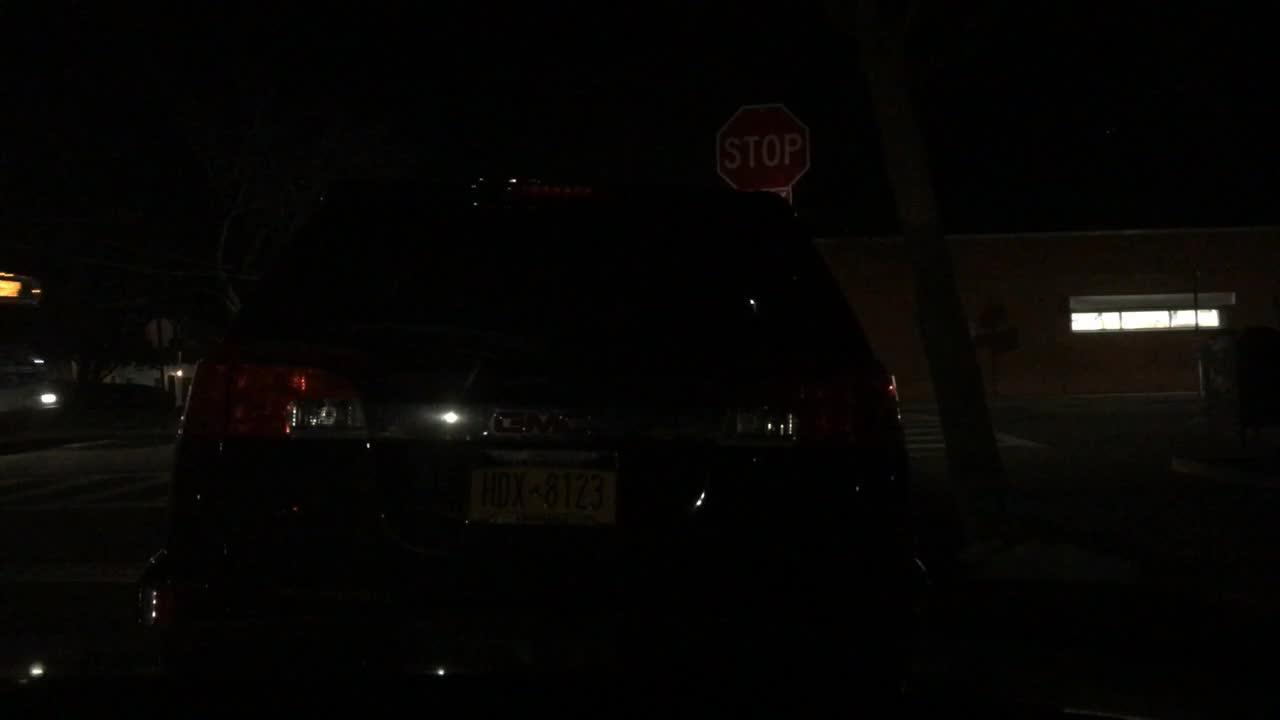GMC: (473, 392, 609, 448)
